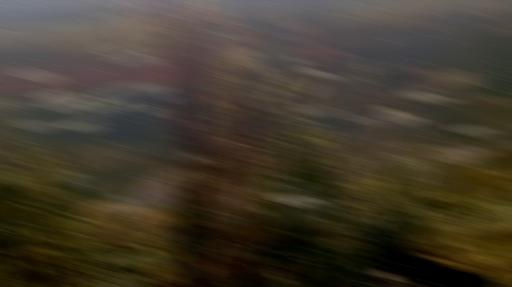Fish: (109, 171, 184, 217), (428, 140, 511, 161), (92, 83, 147, 100), (430, 148, 495, 161), (40, 95, 93, 110), (11, 69, 62, 82), (93, 44, 144, 56), (130, 52, 169, 67), (378, 112, 431, 123), (82, 100, 135, 111), (402, 93, 465, 102), (33, 90, 80, 101), (273, 196, 326, 205), (451, 126, 504, 135), (61, 118, 102, 129), (17, 121, 64, 130), (296, 106, 343, 115), (298, 69, 343, 78), (301, 80, 324, 95), (287, 23, 316, 34), (62, 170, 85, 183), (140, 83, 173, 92), (344, 117, 385, 124), (109, 56, 144, 64), (173, 153, 204, 162), (75, 123, 104, 132), (81, 179, 104, 190), (139, 105, 164, 114), (72, 110, 101, 117), (299, 119, 324, 127), (271, 74, 290, 84), (154, 92, 173, 101), (2, 99, 23, 107), (375, 108, 408, 113)
